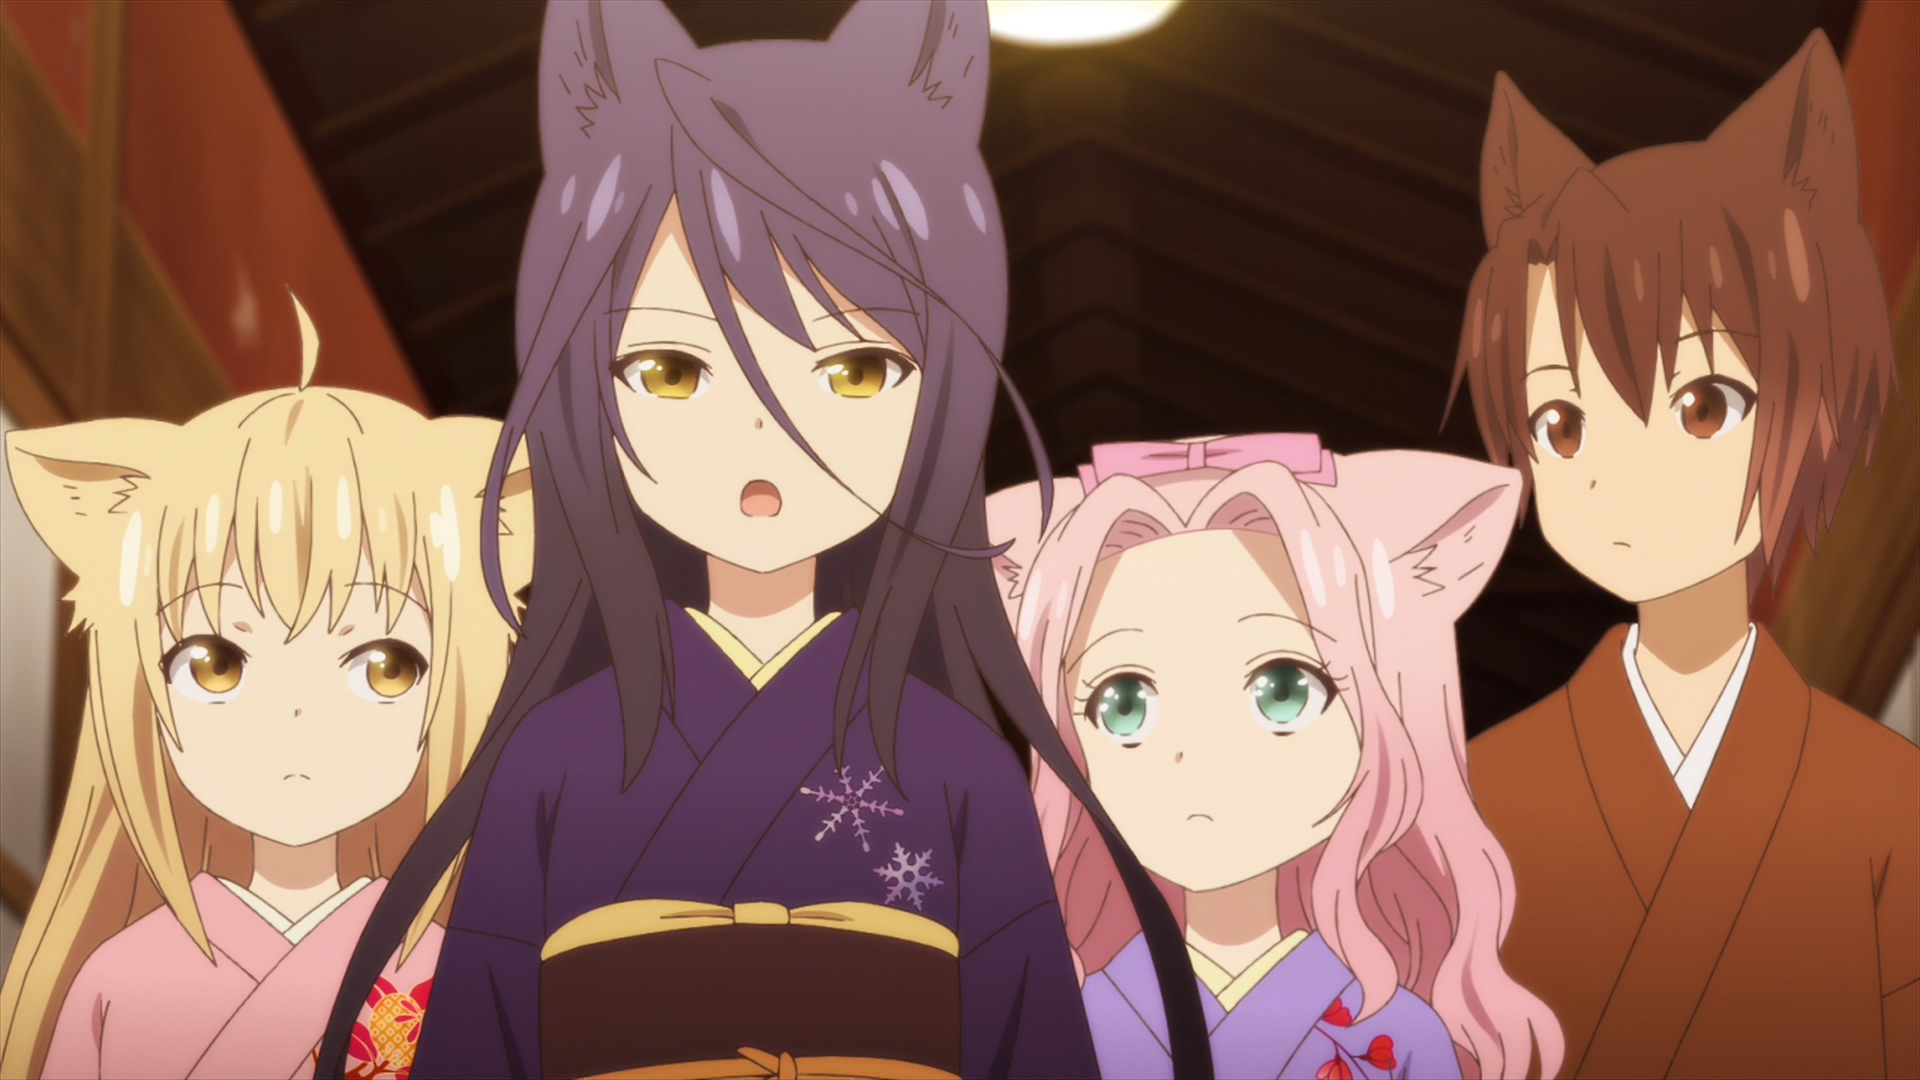枣: (1435, 26, 1920, 1080)
柚: (1, 286, 535, 1080)
皋: (318, 1, 1215, 1080)
莲: (985, 431, 1564, 1080)
